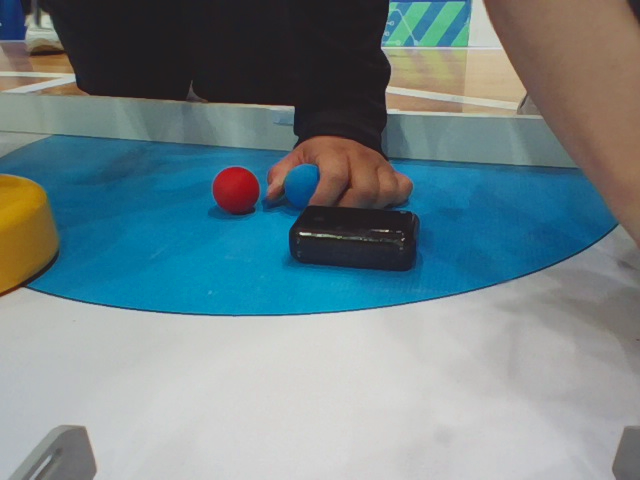black: (282, 205, 432, 290)
blue: (282, 164, 339, 209)
red: (202, 150, 266, 227)
yellow: (1, 155, 81, 311)
